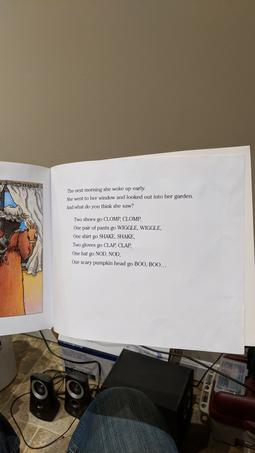text block: (58, 183, 201, 272)
